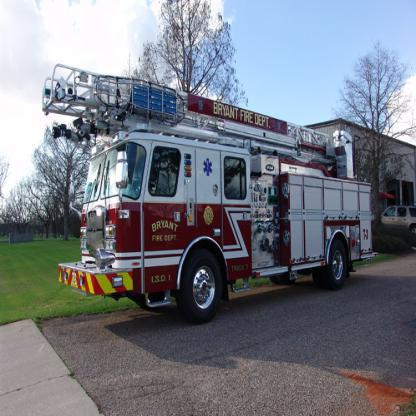fire-truck: (25, 36, 403, 344)
